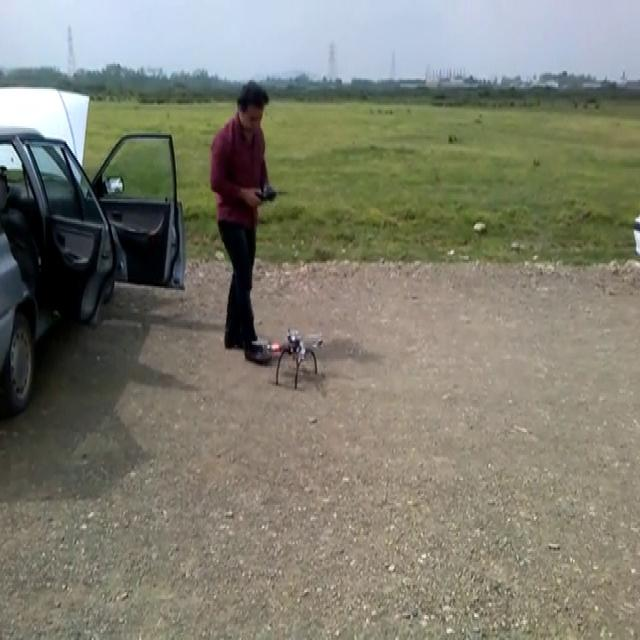drone: (251, 326, 326, 388)
